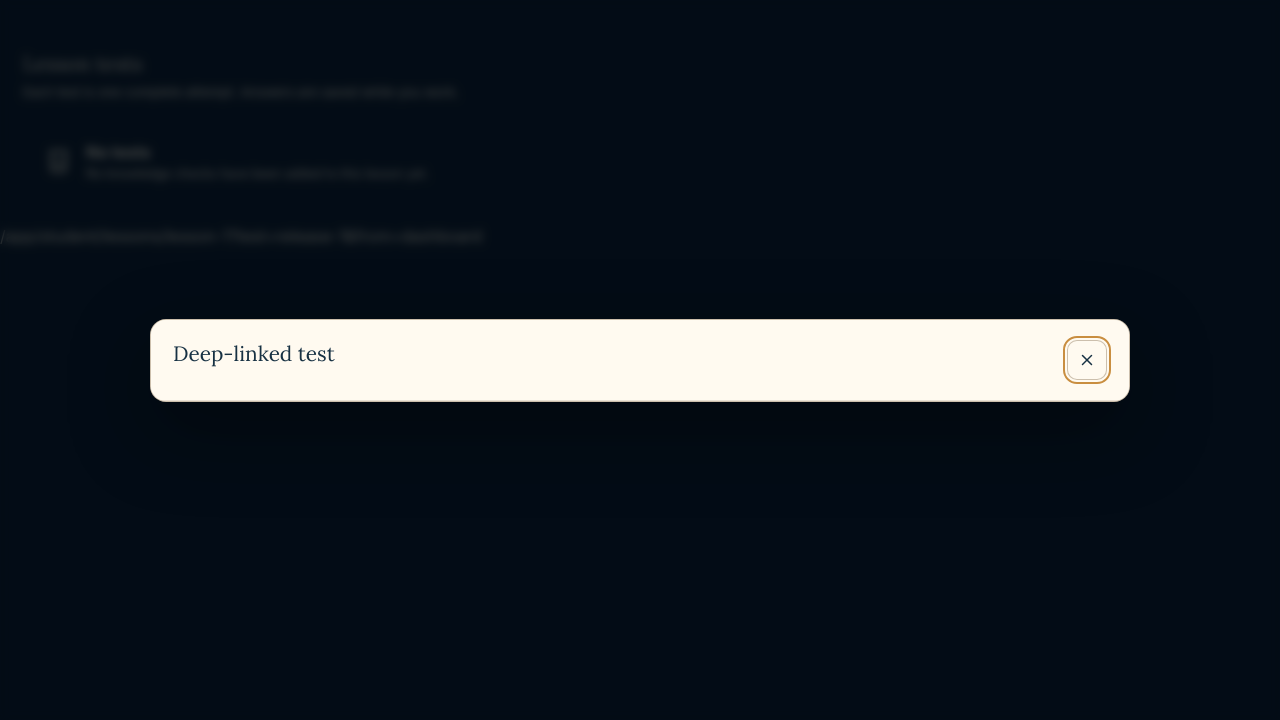
Test: student workspace pages › opens a deep-linked test and removes only its query parameter on close
expect the dialog "Deep-linked test" is shown: met, box 150,318 -> 1130,402
Click the button named "Close" at coordinates (1087, 360), box 1067,340 -> 1107,380
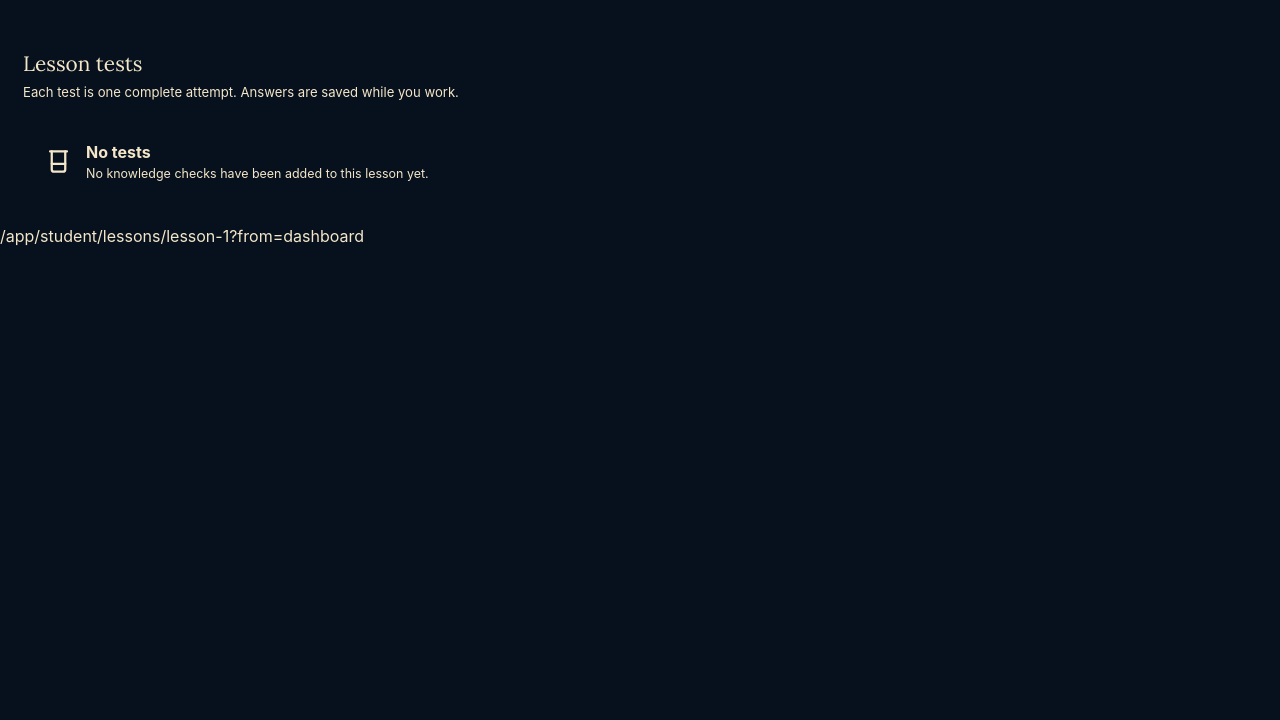
expect the text with test id "location" reads "/app/student/lessons/lesson-1?from=dashboard": met, box 0,226 -> 364,246
